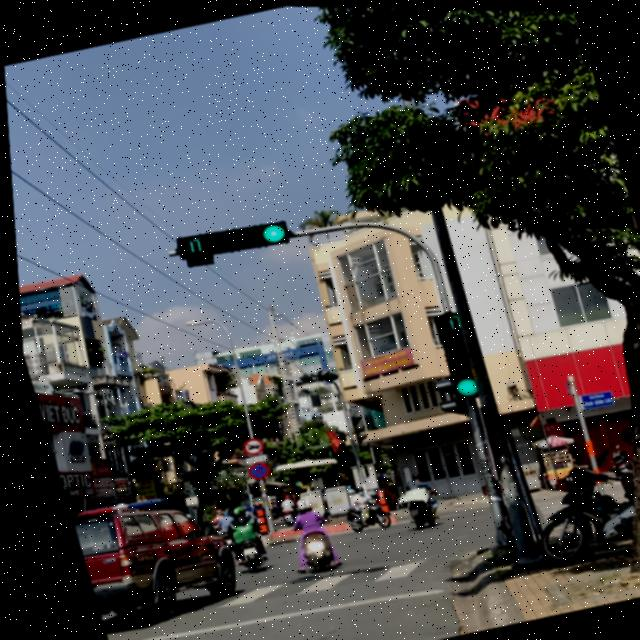Green: (193, 205, 294, 269), (423, 333, 483, 400)
